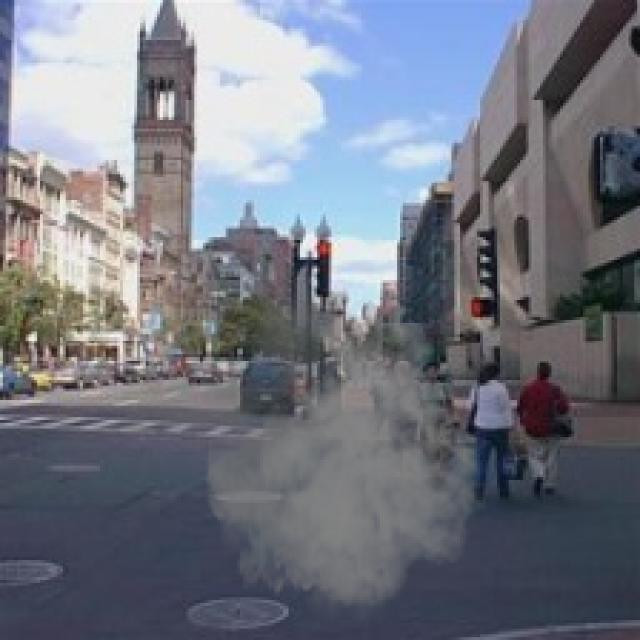Smoke: (106, 279, 488, 632)
